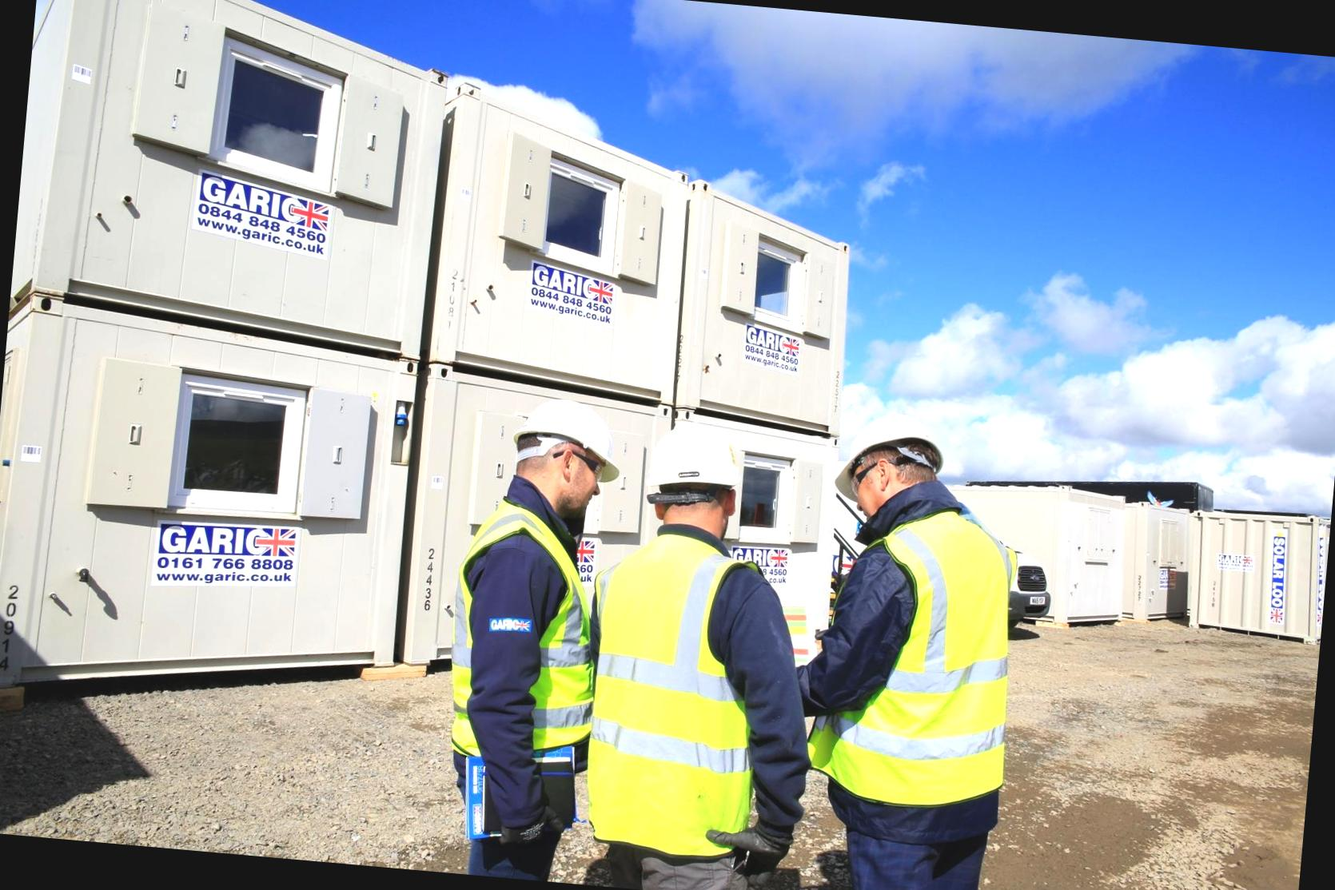helmet: (500, 387, 640, 485), (832, 405, 950, 513), (634, 415, 753, 512)
person: (772, 397, 1038, 890), (584, 406, 814, 890), (427, 384, 627, 884)
